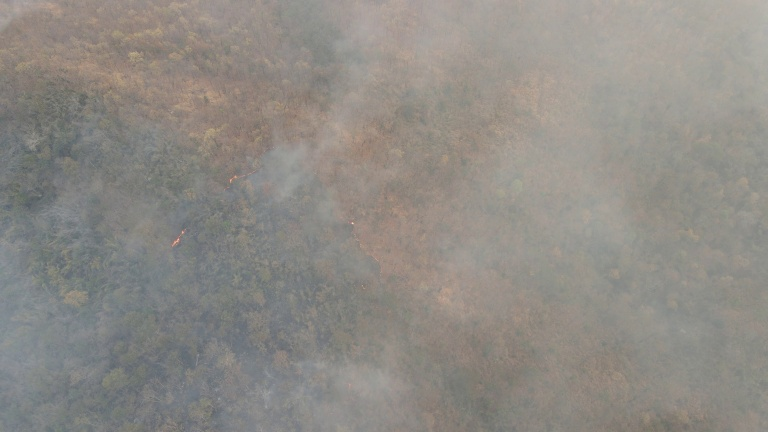fire: (227, 157, 269, 191), (160, 224, 194, 256)
smoke: (4, 195, 768, 428), (267, 1, 768, 196)
